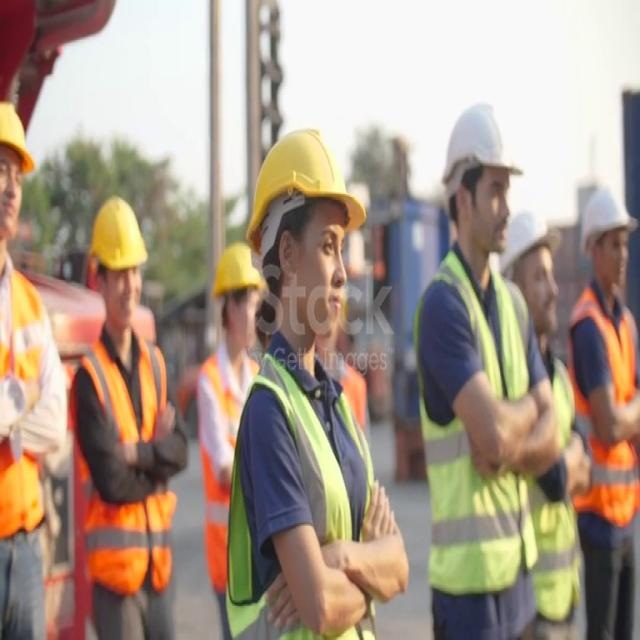capacete: (235, 116, 378, 288), (428, 97, 525, 204), (566, 163, 640, 268), (89, 187, 160, 289), (208, 235, 272, 329), (491, 210, 565, 288), (0, 83, 44, 185)
